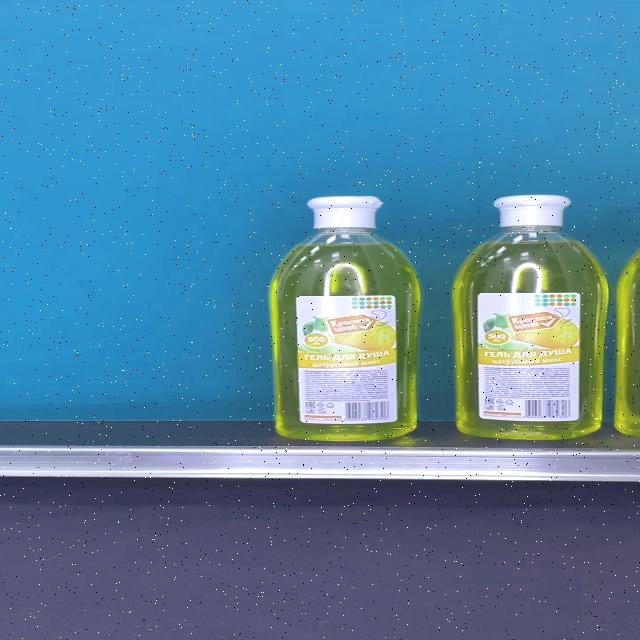Bottle: (454, 194, 610, 441), (270, 194, 421, 441)
Cap: (306, 195, 384, 229), (492, 194, 572, 227)
